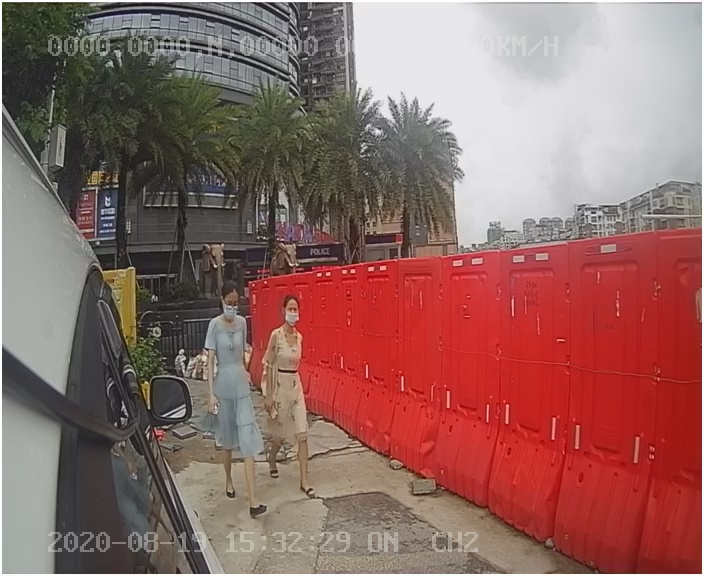person: (189, 283, 287, 520), (253, 293, 343, 500)
